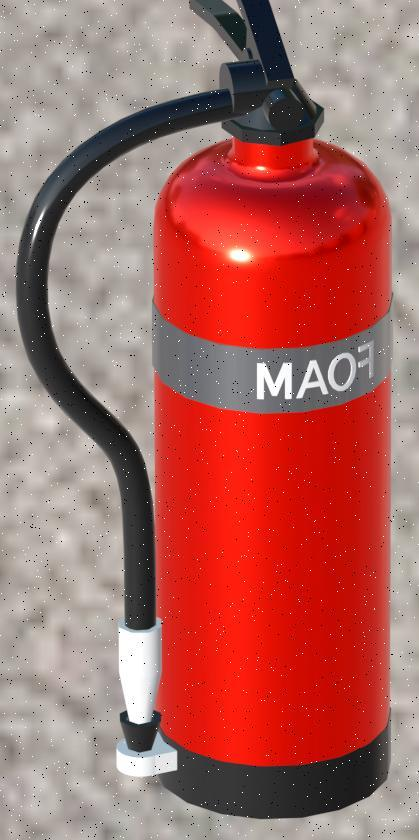Fire Extinguisher: (15, 10, 419, 823)
